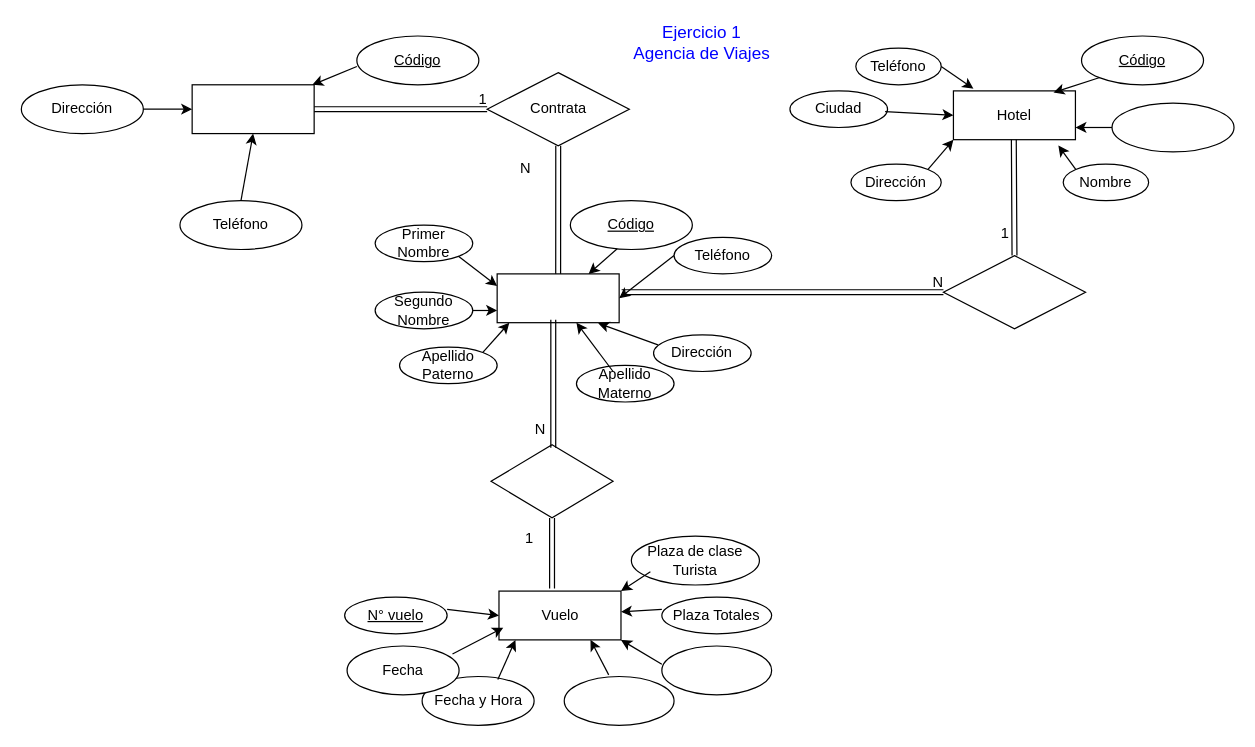
Some shapes in this 1255 by 747 pixel diagram are drawn without their labels. Here are the shapes that lost their labels. From the top down, the centre of each, then its label:
the point at 252,109: Surcursal
the point at 1172,127: N° Plazas disponibles
the point at 557,298: Turista
the point at 1014,291: Hospeda
the point at 551,480: Elige
the point at 716,670: Destino
the point at 618,700: Origen
